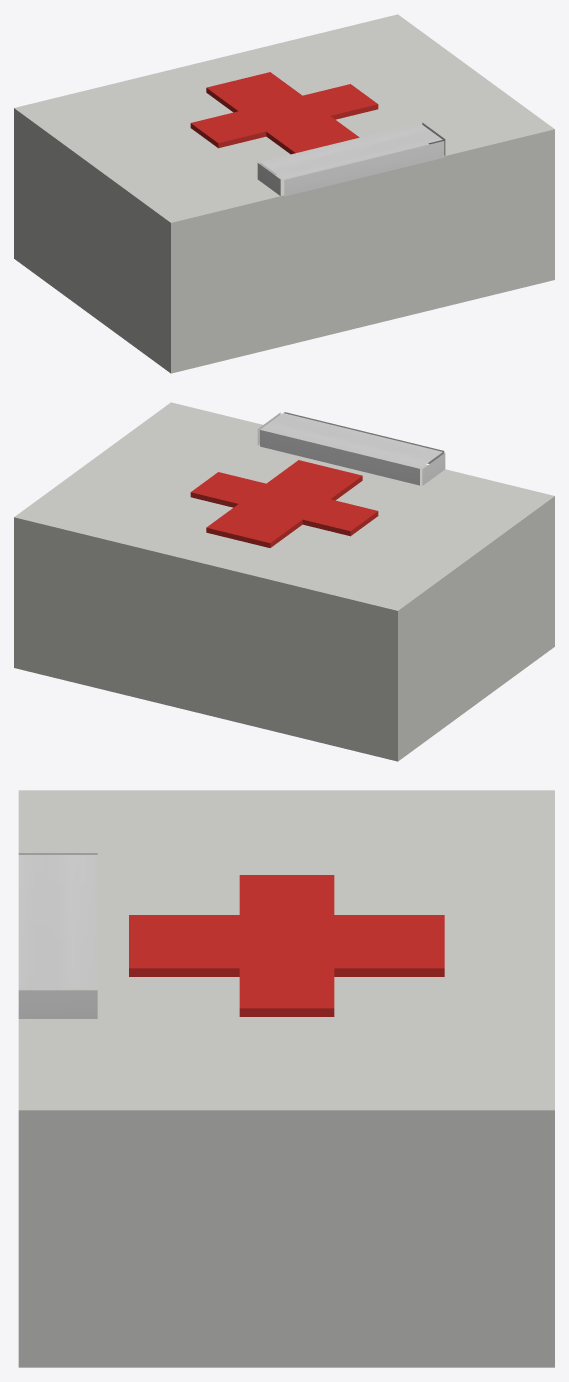
The model's file is item_medicine.obj.
3 views of the same model, one above another, from view 1: azimuth 30°, elevation 25°; view 2: azimuth 150°, elevation 25°; view 3: azimuth 270°, elevation 25° (orthographic). The views are drawn at different scales.
Parts seen in each view (by area): view 1: item_medicine; view 2: item_medicine; view 3: item_medicine.
Part boxes in pixels (x1,y1,x2,y2): item_medicine: [14, 14, 554, 373]; item_medicine: [14, 402, 554, 761]; item_medicine: [18, 790, 554, 1367].
Bounding box in the file's own units: 0.48 × 0.2 × 0.343.
